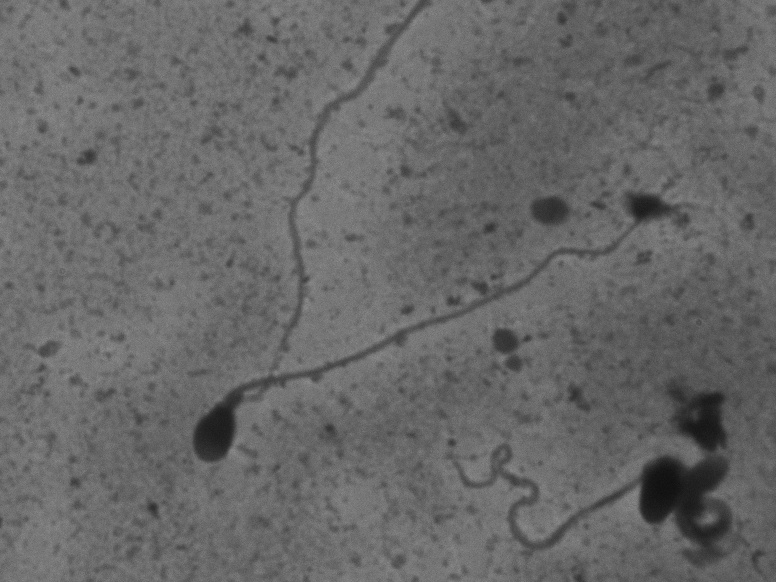Abnormal: (445, 398, 684, 566)
Normal: (180, 163, 678, 473)
